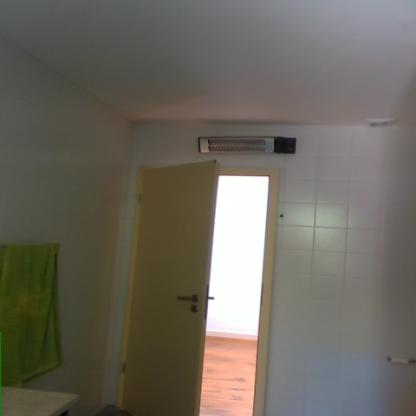semi: (121, 156, 292, 415)
